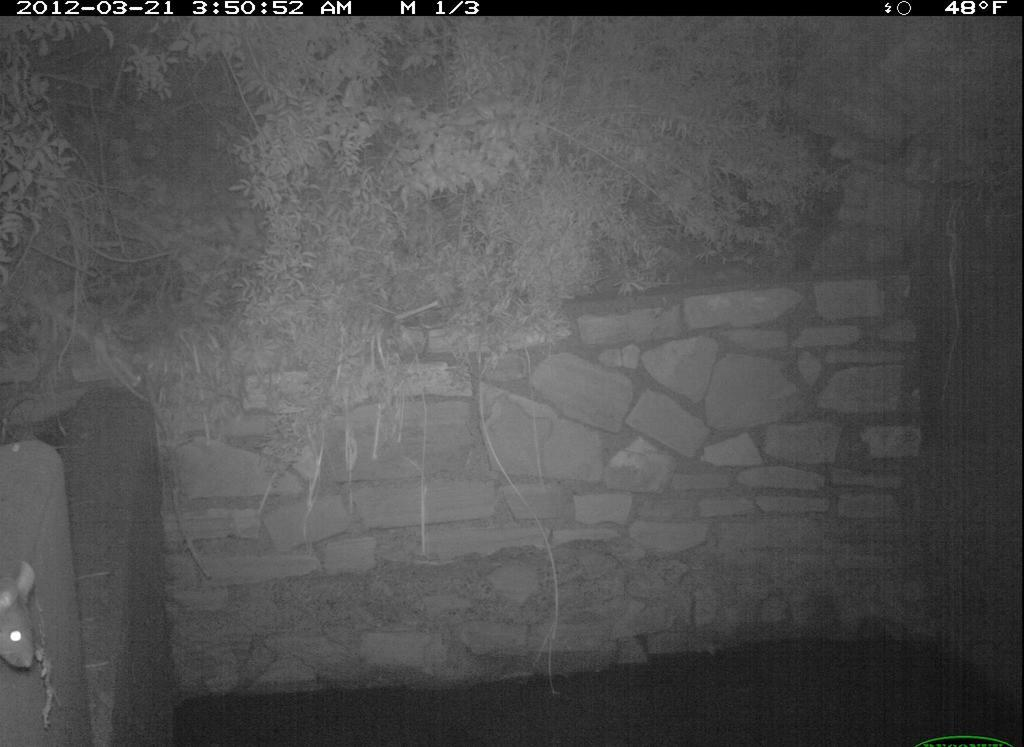rodent: (2, 551, 45, 692)
